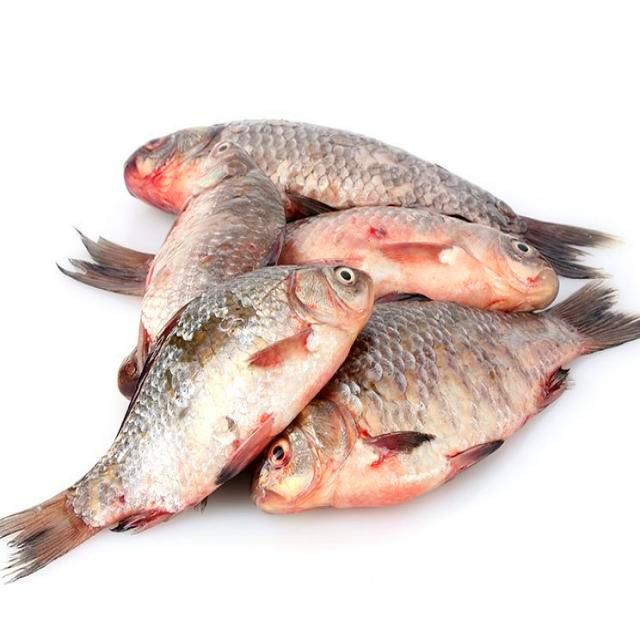fish: (0, 264, 373, 577), (251, 284, 638, 512), (123, 120, 611, 277), (136, 141, 285, 370), (277, 206, 557, 309), (59, 234, 152, 297)
